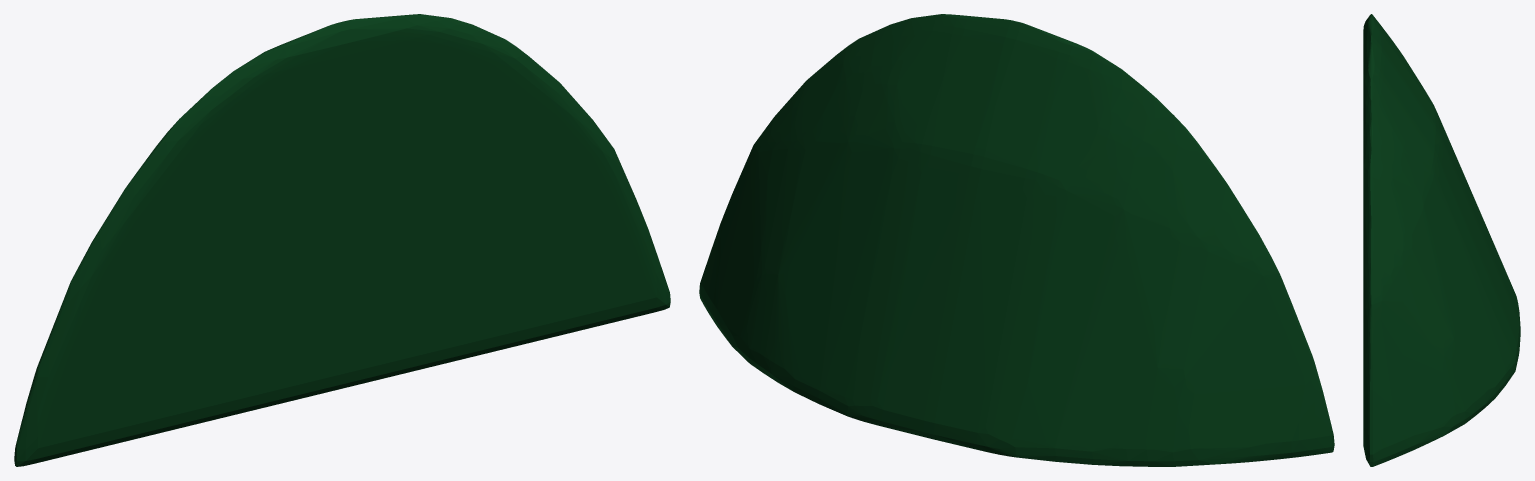
Rendered from right-shoulder-pitch-0_part_25.obj.
3 renders of one model, left to right at view 1: azimuth 30°, elevation 25°; view 2: azimuth 150°, elevation 25°; view 3: azimuth 270°, elevation 25°, orthographic. The views are drawn at different scales.
Size of the model in its own units: 0.0653 by 0.035 by 0.0167.
